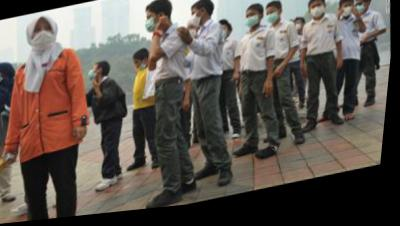OK: (29, 24, 58, 55), (144, 15, 161, 38), (265, 14, 281, 33), (189, 12, 203, 33), (245, 17, 261, 35), (341, 10, 357, 26), (311, 10, 326, 27), (185, 28, 199, 45), (89, 67, 101, 85), (356, 10, 370, 25), (218, 32, 230, 46), (1, 68, 8, 86), (294, 28, 303, 39)
WRONG: (135, 62, 148, 77)
